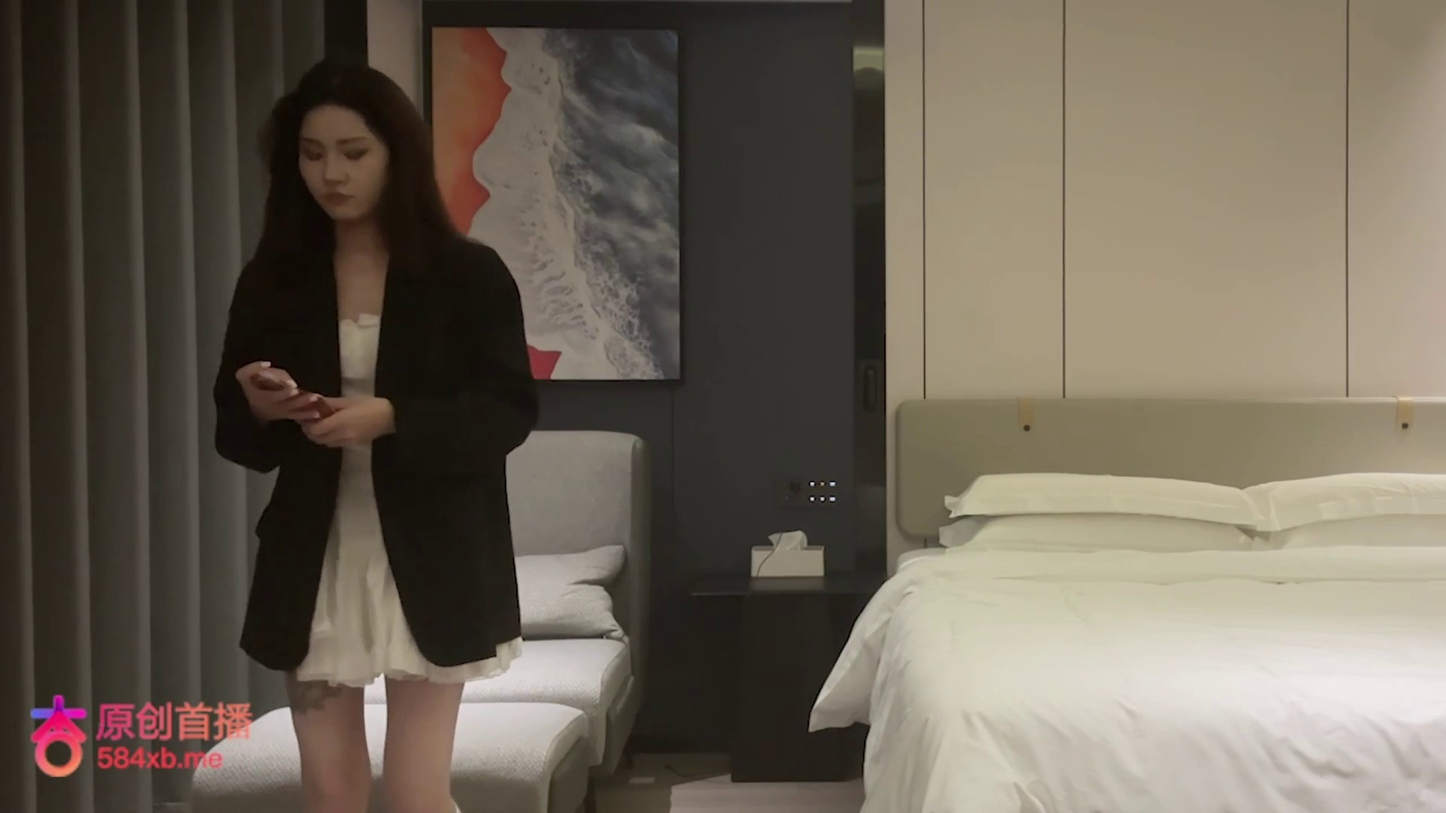stand: (210, 59, 541, 805)
